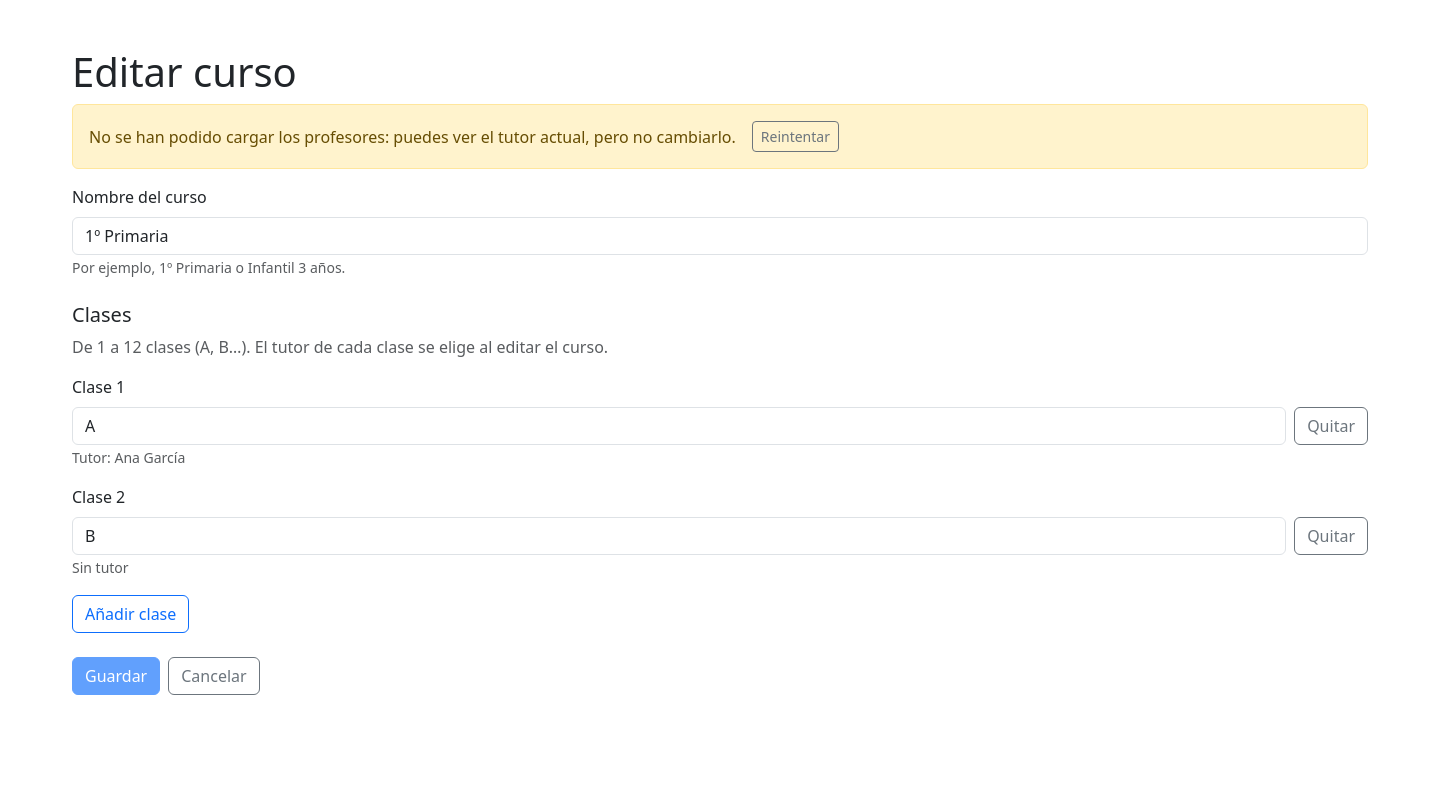
Test: EditCoursePage choosing the tutors › shows the tutor as read only with a notice and "Reintentar" when the professors fail, and shows the selects after retrying
Expected: the text "No se han podido cargar los profesores: puedes ver el tutor actual, pero no cambiarlo." is shown, [89,126,736,148]
Expected: the text "Tutor: Ana García" is shown, [72,448,185,467]
Click the button "Reintentar": point(795, 136) [752,121,839,152]
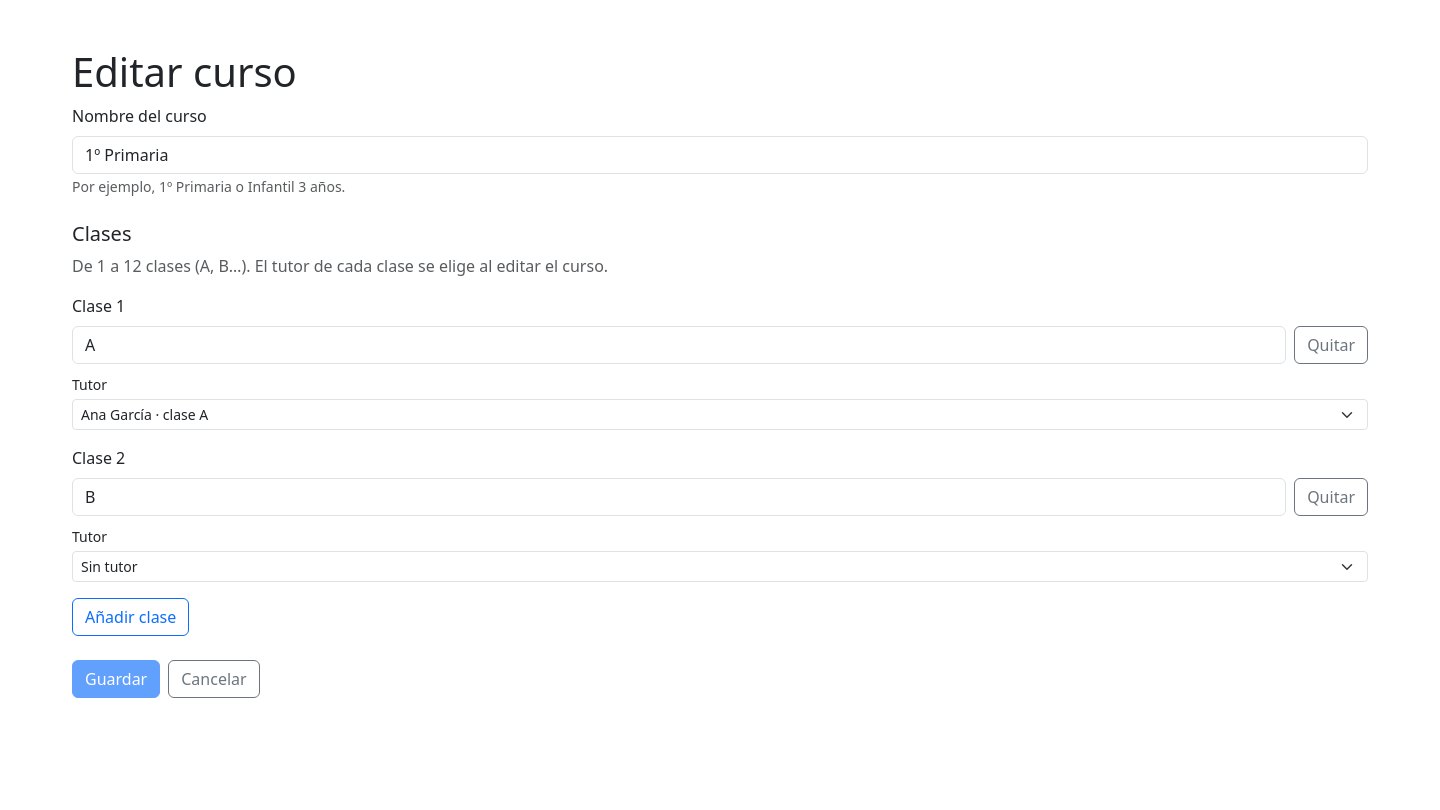
Result: the text "No se han podido cargar los profesores: puedes ver el tutor actual, pero no cambiarlo." is gone
